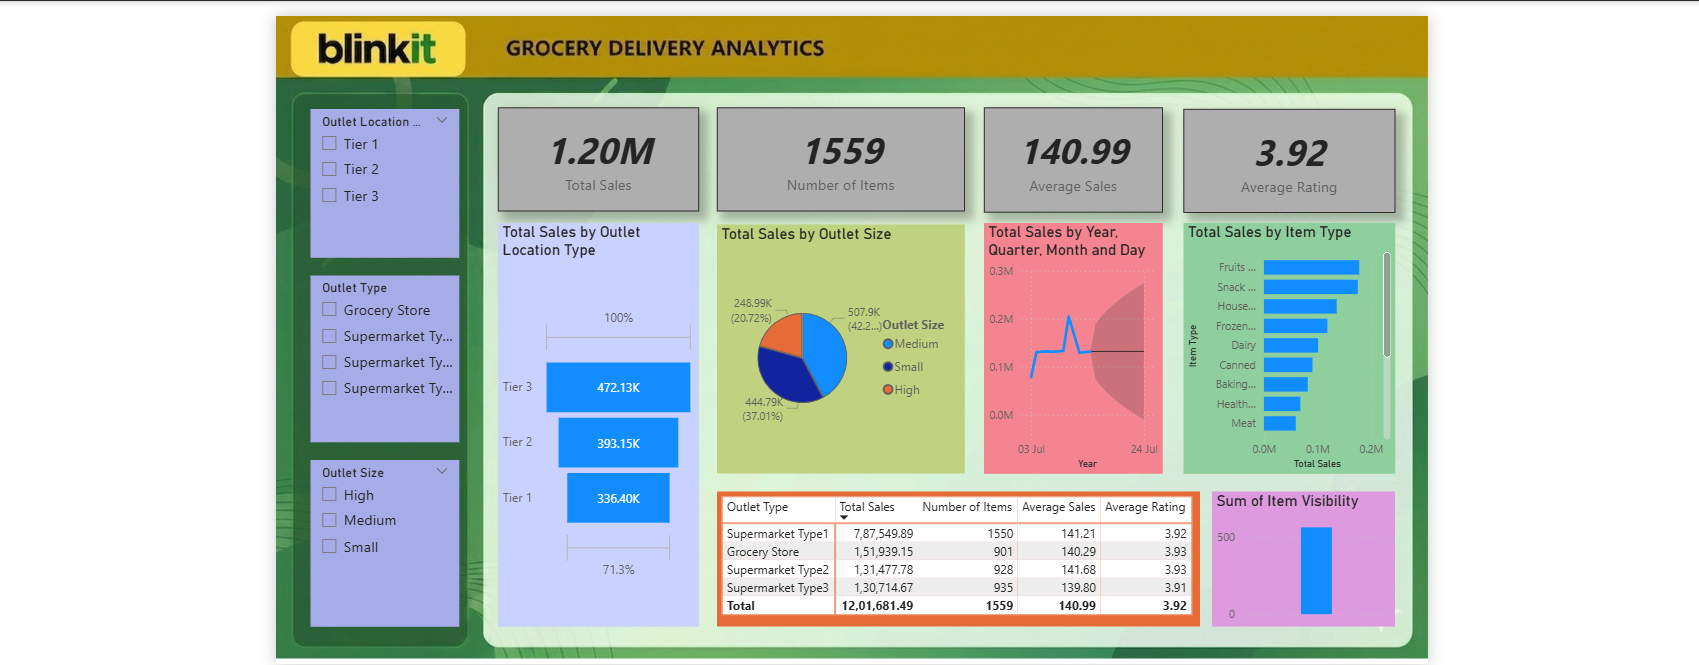

What the dashboard file says about the page in this screenshot:
{"tool":"powerbi","page":{"name":"Page 1","canvas":[1280,720],"ordinal":0},"visuals":[{"type":"card","fields":{"Values":["BlinkIT Grocery Data.Total Sales"]},"box":[246.7,101.7,223.3,115],"z":0},{"type":"card","fields":{"Values":["BlinkIT Grocery Data.Number of Items"]},"box":[490,101.7,275,115],"z":1000},{"type":"card","fields":{"Values":["BlinkIT Grocery Data.Average Sales"]},"box":[786.7,101.7,198.3,116.7],"z":2000},{"type":"card","fields":{"Values":["BlinkIT Grocery Data.Average Rating"]},"box":[1008.3,103.3,235,115],"z":3000},{"type":"funnel","fields":{"Category":["BlinkIT Grocery Data.Outlet Location Type"],"Y":["BlinkIT Grocery Data.Total Sales"]},"box":[246.7,230,223.3,448.3],"z":4000},{"type":"pieChart","fields":{"Category":["BlinkIT Grocery Data.Outlet Size"],"Y":["BlinkIT Grocery Data.Total Sales"]},"box":[490,231.7,275,276.7],"z":5000},{"type":"slicer","fields":{"Values":["BlinkIT Grocery Data.Outlet Location Type"]},"box":[37.5,102.5,165,165],"z":6000},{"type":"lineChart","fields":{"Category":["BlinkIT Grocery Data.Outlet Establishment Year.Variation.Date Hierarchy.Year","BlinkIT Grocery Data.Outlet Establishment Year.Variation.Date Hierarchy.Quarter","BlinkIT Grocery Data.Outlet Establishment Year.Variation.Date Hierarchy.Month","BlinkIT Grocery Data.Outlet Establishment Year.Variation.Date Hierarchy.Day"],"Y":["BlinkIT Grocery Data.Total Sales"]},"box":[786.7,230,198.3,278.3],"z":7000},{"type":"pivotTable","fields":{"Rows":["BlinkIT Grocery Data.Outlet Type"],"Values":["BlinkIT Grocery Data.Total Sales","BlinkIT Grocery Data.Number of Items","BlinkIT Grocery Data.Average Sales","BlinkIT Grocery Data.Average Rating"]},"box":[490,528.3,536.7,150],"z":8000},{"type":"columnChart","fields":{"Y":["Sum(BlinkIT Grocery Data.Item Visibility)"]},"box":[1040,528.3,203.3,150],"z":9000},{"type":"slicer","fields":{"Values":["BlinkIT Grocery Data.Outlet Type"]},"box":[37.5,287.5,165,185],"z":11000},{"type":"slicer","fields":{"Values":["BlinkIT Grocery Data.Outlet Size"]},"box":[37.5,492.5,165,185],"z":12000},{"type":"barChart","fields":{"Category":["BlinkIT Grocery Data.Item Type"],"Y":["BlinkIT Grocery Data.Total Sales"]},"box":[1008.3,230,235,278.3],"z":13000}]}

Visuals, with their boxes on the page's 1280x720 design canvas (x1, y1, x2, y2). These are canvas units, not pixel positions in the 1699x665 screenshot, which may show the page scaled, cropped or inside an application window:
card - BlinkIT Grocery Data.Total Sales: x1=247, y1=102, x2=470, y2=217
card - BlinkIT Grocery Data.Number of Items: x1=490, y1=102, x2=765, y2=217
card - BlinkIT Grocery Data.Average Sales: x1=787, y1=102, x2=985, y2=218
card - BlinkIT Grocery Data.Average Rating: x1=1008, y1=103, x2=1243, y2=218
funnel - BlinkIT Grocery Data.Outlet Location Type x BlinkIT Grocery Data.Total Sales: x1=247, y1=230, x2=470, y2=678
pieChart - BlinkIT Grocery Data.Outlet Size x BlinkIT Grocery Data.Total Sales: x1=490, y1=232, x2=765, y2=508
slicer - BlinkIT Grocery Data.Outlet Location Type: x1=38, y1=102, x2=202, y2=268
lineChart - BlinkIT Grocery Data.Outlet Establishment Year.Variation.Date Hierarchy.Year x BlinkIT Grocery Data.Outlet Establishment Year.Variation.Date Hierarchy.Quarter: x1=787, y1=230, x2=985, y2=508
pivotTable - BlinkIT Grocery Data.Outlet Type x BlinkIT Grocery Data.Total Sales: x1=490, y1=528, x2=1027, y2=678
columnChart - Sum(BlinkIT Grocery Data.Item Visibility): x1=1040, y1=528, x2=1243, y2=678
slicer - BlinkIT Grocery Data.Outlet Type: x1=38, y1=288, x2=202, y2=472
slicer - BlinkIT Grocery Data.Outlet Size: x1=38, y1=492, x2=202, y2=678
barChart - BlinkIT Grocery Data.Item Type x BlinkIT Grocery Data.Total Sales: x1=1008, y1=230, x2=1243, y2=508
